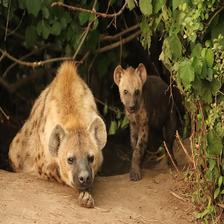hyena: (6, 41, 110, 216), (112, 52, 191, 182)
